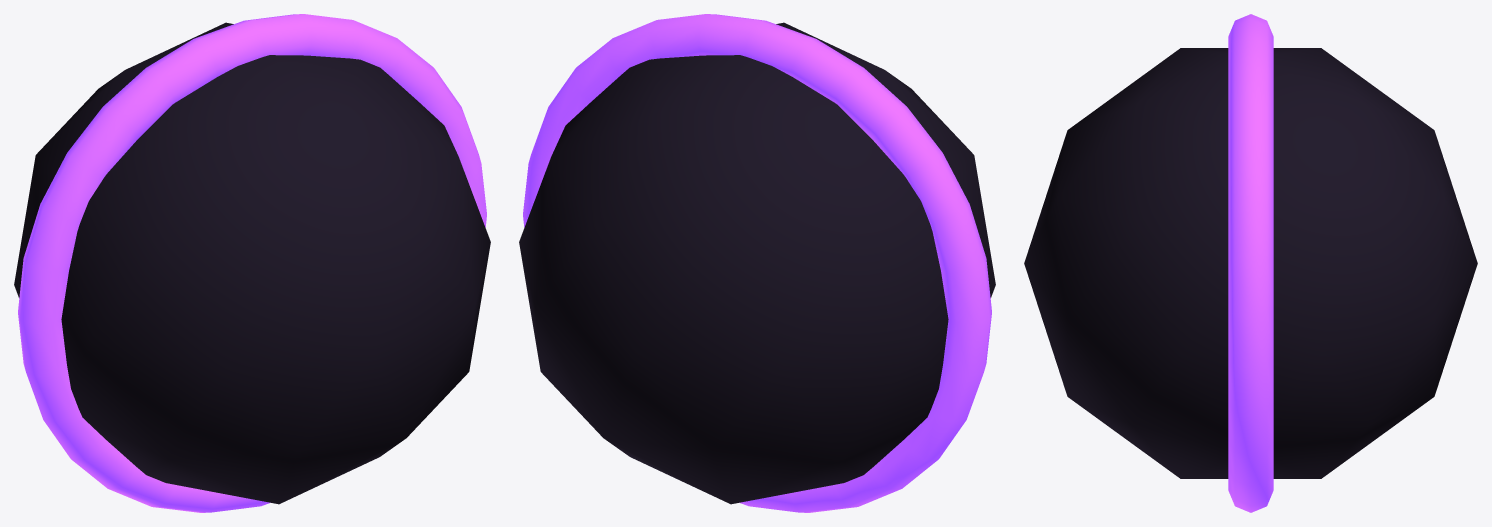
The model's file is boss_ultimate_neck.glb.
The picture shows the model from 3 angles, left to right: view 1: azimuth 30°, elevation 25°; view 2: azimuth 150°, elevation 25°; view 3: azimuth 270°, elevation 25°; orthographic projection. The views are drawn at different scales.
Parts seen in each view (by area): view 1: Icosphere; view 2: Icosphere; view 3: Icosphere.
Boxes of the visible parts, box(x1,y1,x2,y2) form: Icosphere: box(14, 14, 490, 512); Icosphere: box(519, 14, 995, 512); Icosphere: box(1024, 14, 1477, 512).
Size of the model in its own units: 0.66 by 0.66 by 0.6.
